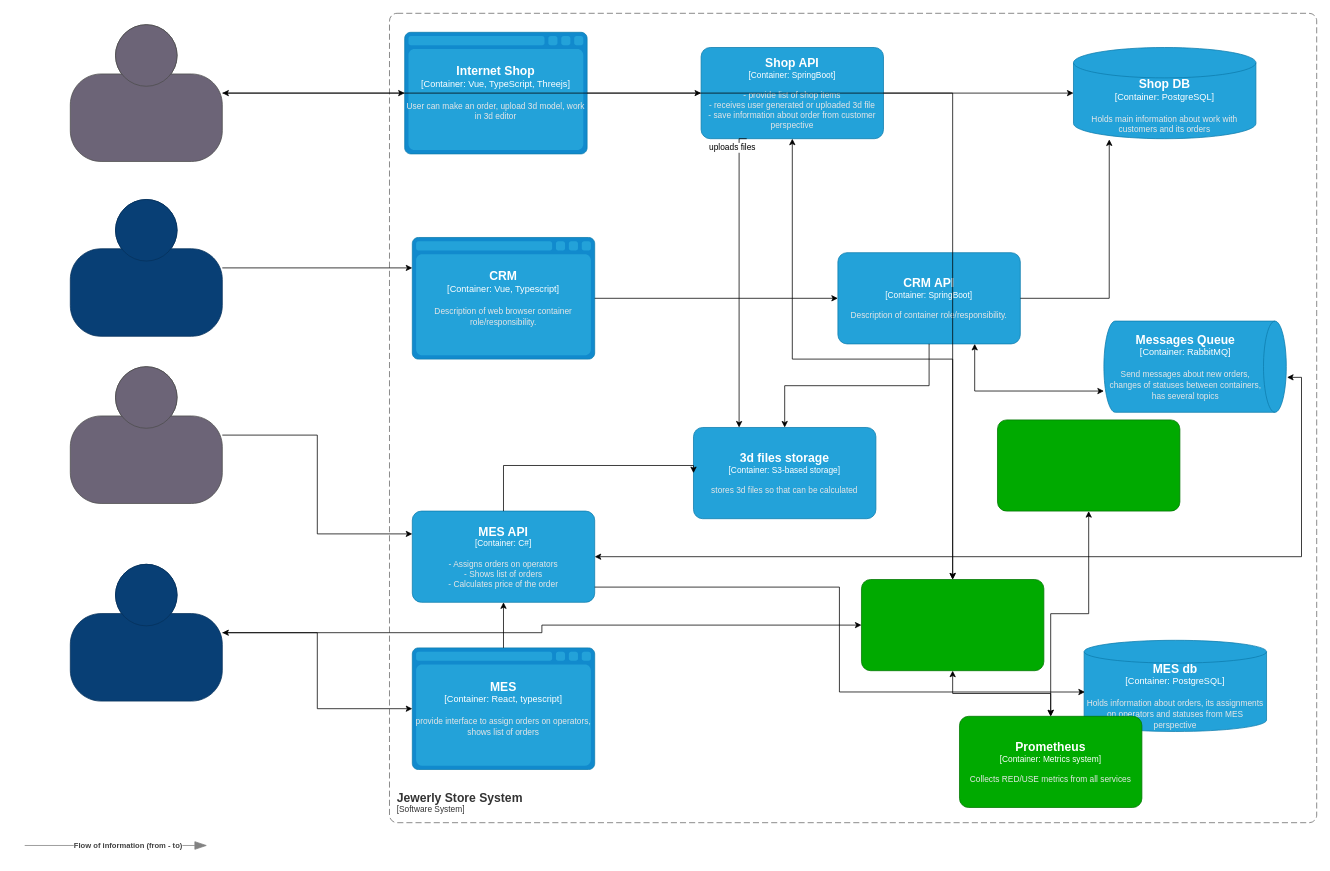
This 1330x871 diagram has some shape labels left out. The centre of each missing label's shape, as x and y in pixels:
"API user [Person] Description of external person." goes at [146,435].
"Customer [Person] Description of external person." goes at [146,93].
"Grafana [Container: Visualization] Shows metrics collected by Prometheus" goes at [1088,465].
"Jaeger [Container: Tracing system] Collects distributed traces from all services" goes at [952,625].
"Operator [Person] Takes order in work, manufactures jewerly" goes at [146,632].
"Seller [Person] Operates with order, confirms manufacturing for the user" goes at [146,267].
